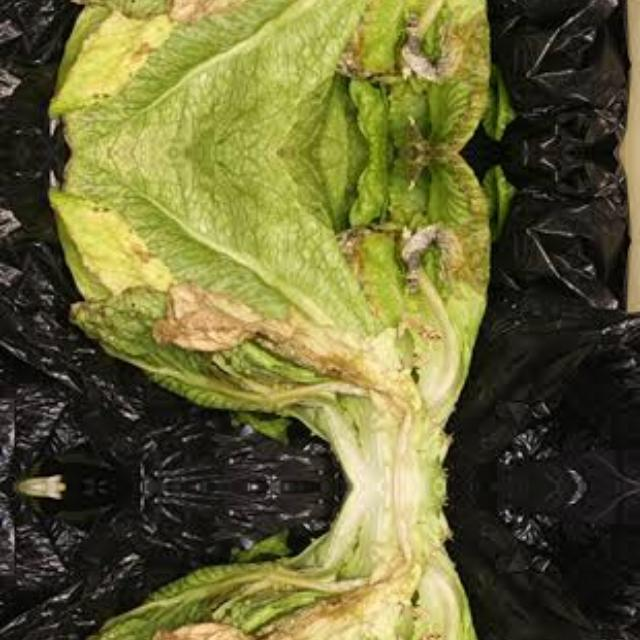Downy_mildew: (57, 153, 510, 487), (56, 486, 509, 640), (56, 0, 509, 151)
